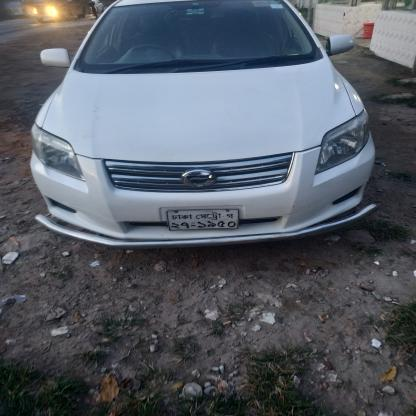license_plate: (161, 206, 245, 234)
